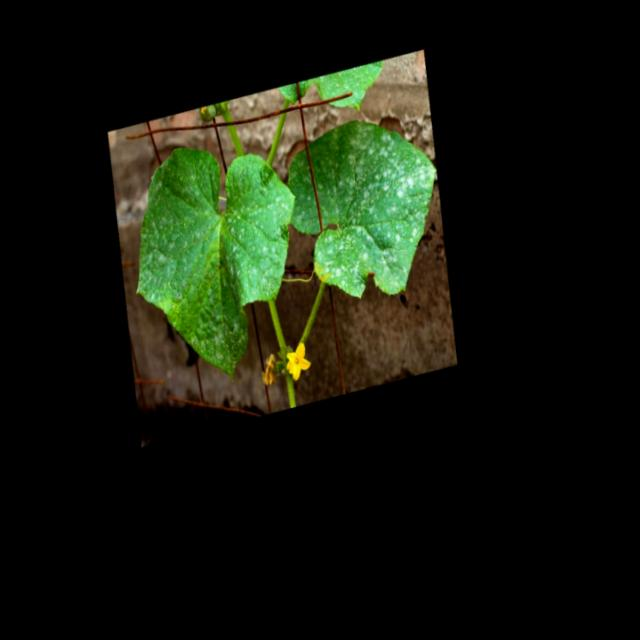Powdery_mildew_on_lettuce: (138, 126, 292, 382), (282, 94, 437, 318)
